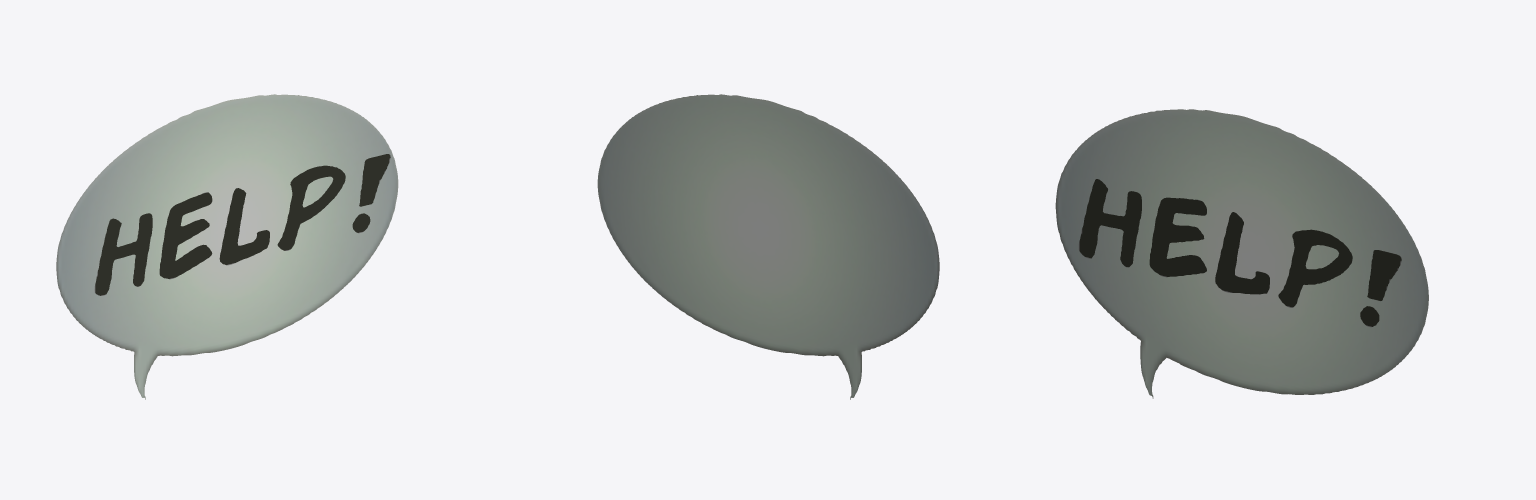
File: Help Baloon B.FBX
The picture shows the model from 3 angles, left to right: view 1: azimuth 30°, elevation 25°; view 2: azimuth 150°, elevation 25°; view 3: azimuth 330°, elevation 25°; orthographic projection. The views are drawn at different scales.
Parts seen in each view (by area): view 1: Help Baloon B; view 2: Help Baloon B; view 3: Help Baloon B.
Boxes of the visible parts, bbox=[...] form: Help Baloon B: bbox=[56, 94, 398, 399]; Help Baloon B: bbox=[597, 94, 939, 399]; Help Baloon B: bbox=[1055, 109, 1428, 398].
Size of the model in its own units: 118 by 3.75 by 90.37.
